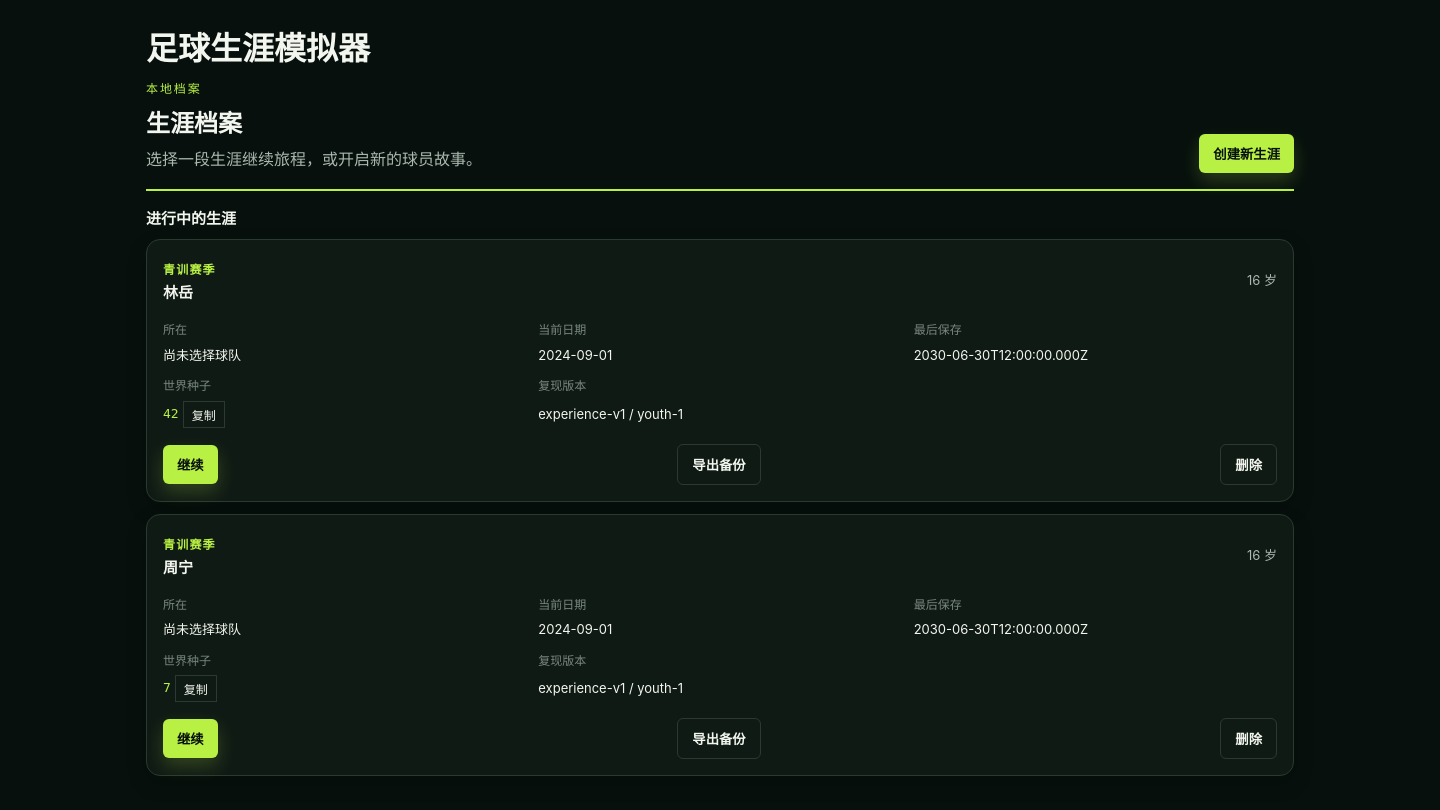
Test: App › continues only the selected career from the archive
Click the button with aria-label "继续周宁的生涯": (190, 739) [163,719,218,758]
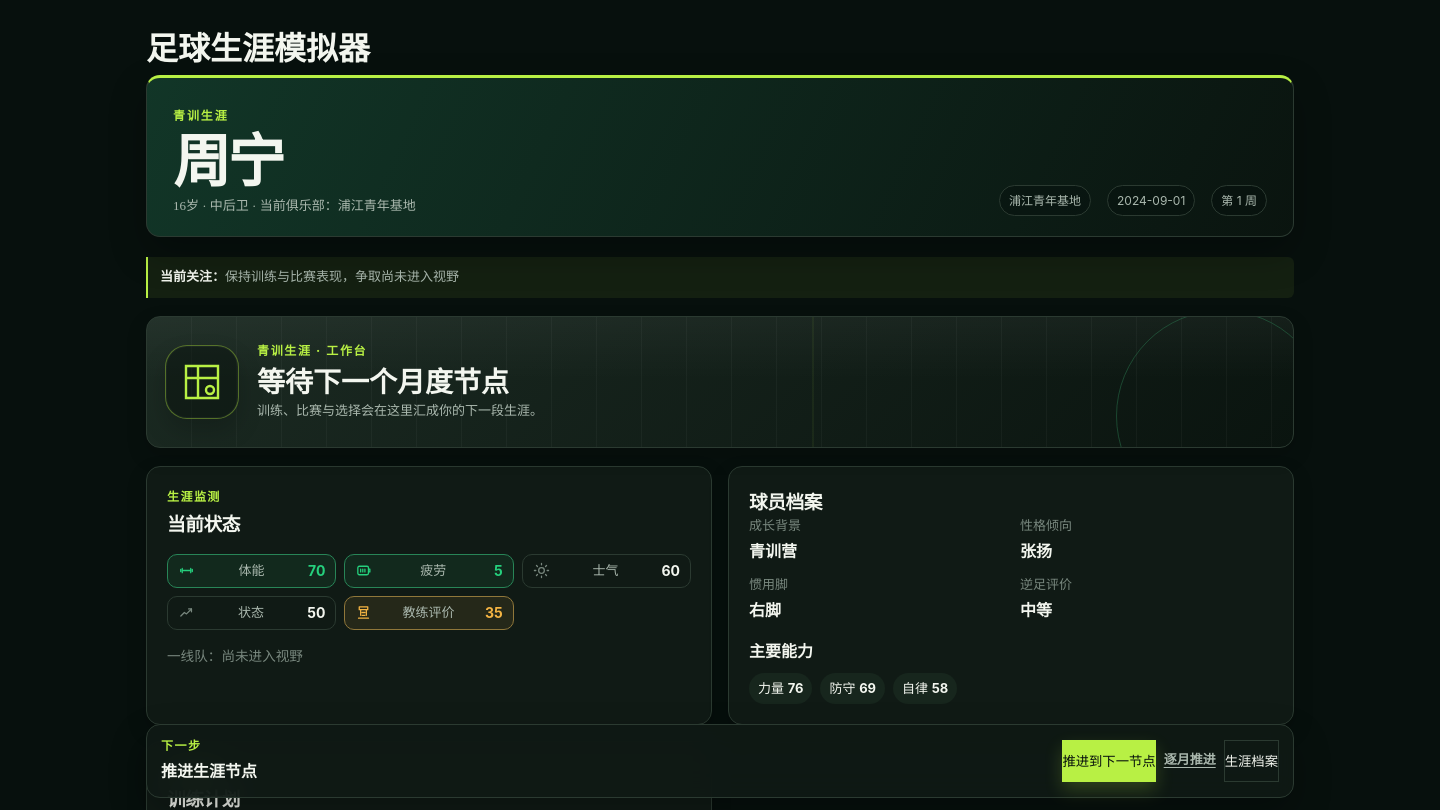
Now the text "青训生涯" is shown, box [173,108,229,123]
Now the heading "周宁" is shown, box [173,120,282,199]
